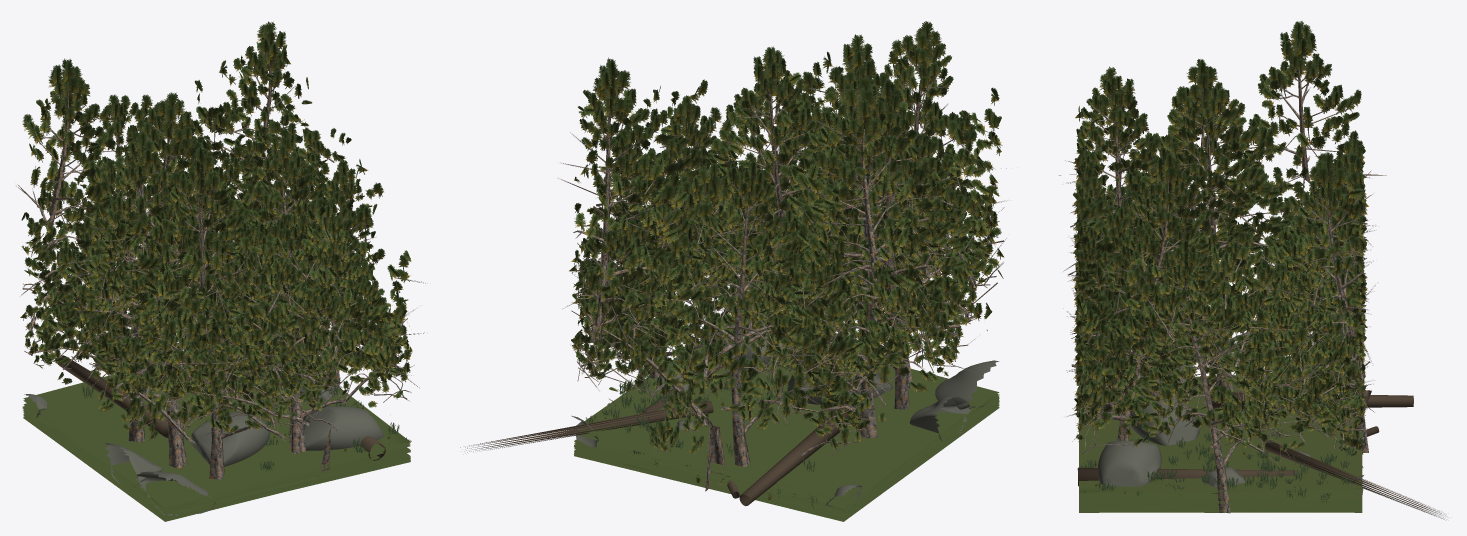
Rendered from hutan.glb.
3 renders of one model, left to right at view 1: azimuth 30°, elevation 25°; view 2: azimuth 150°, elevation 25°; view 3: azimuth 270°, elevation 25°, orthographic. The views are drawn at different scales.
Parts seen in each view (by area): view 1: hutan_19, hutan_28, hutan_22, hutan_05, hutan_11, hutan_24, hutan_04, hutan_01, hutan_07, hutan_10, hutan_12, hutan_18 (+14 smaller); view 2: hutan_19, hutan_22, hutan_05, hutan_04, hutan_20, hutan_09, hutan_12, hutan_07, hutan_11, hutan_24, hutan_28, hutan_26 (+15 smaller); view 3: hutan_04, hutan_19, hutan_05, hutan_11, hutan_08, hutan_28, hutan_03, hutan_22, hutan_09, hutan_24, hutan_15, hutan_01 (+18 smaller).
Boxes of the visible parts, x1,y1,x2,y2 form: hutan_19: (23,355,410,507); hutan_28: (24,145,409,513); hutan_22: (16,58,401,518); hutan_05: (25,92,411,510); hutan_11: (23,127,419,514); hutan_24: (24,131,412,513); hutan_04: (21,21,409,518); hutan_01: (25,198,410,514); hutan_07: (46,60,410,519); hutan_10: (23,189,406,516); hutan_12: (21,77,410,516); hutan_18: (24,208,410,514); hutan_19: (578,334,999,506); hutan_22: (574,76,1006,515); hutan_05: (571,34,997,514); hutan_04: (558,57,996,521); hutan_20: (574,160,999,509); hutan_09: (571,148,999,512); hutan_12: (574,114,998,518); hutan_07: (563,119,997,514); hutan_11: (574,46,1004,515); hutan_24: (574,78,998,511); hutan_28: (571,21,1001,513); hutan_26: (574,212,990,520); hutan_04: (1104,152,1371,510); hutan_19: (1079,364,1413,492); hutan_05: (1066,59,1372,503); hutan_11: (1069,150,1361,503); hutan_08: (1073,231,1367,512); hutan_28: (1065,66,1367,502); hutan_03: (1079,239,1361,513); hutan_22: (1059,21,1386,512); hutan_09: (1079,156,1376,503); hutan_24: (1067,84,1362,501); hutan_15: (1077,434,1362,499); hutan_01: (1063,181,1362,508).
Size of the model in its own units: 13.32 by 14.84 by 14.09.
7 materials, 5 textured.
